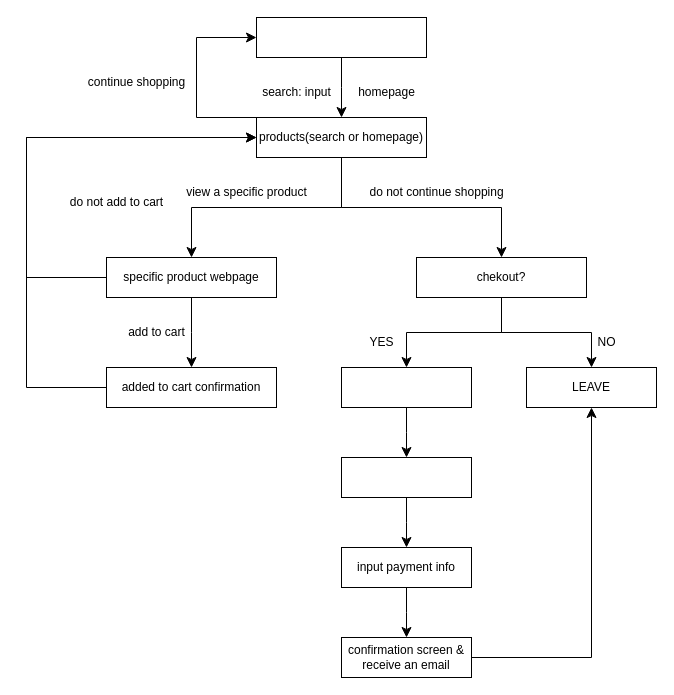
The diagram is 674 pixels wide and 695 high, and some of its shapes have lost their labels. The centre of each missing label's shape, as x and y in pixels:
enter the website: pixel 341 37
view cart screen: pixel 406 387
view payrment screen: pixel 406 477
